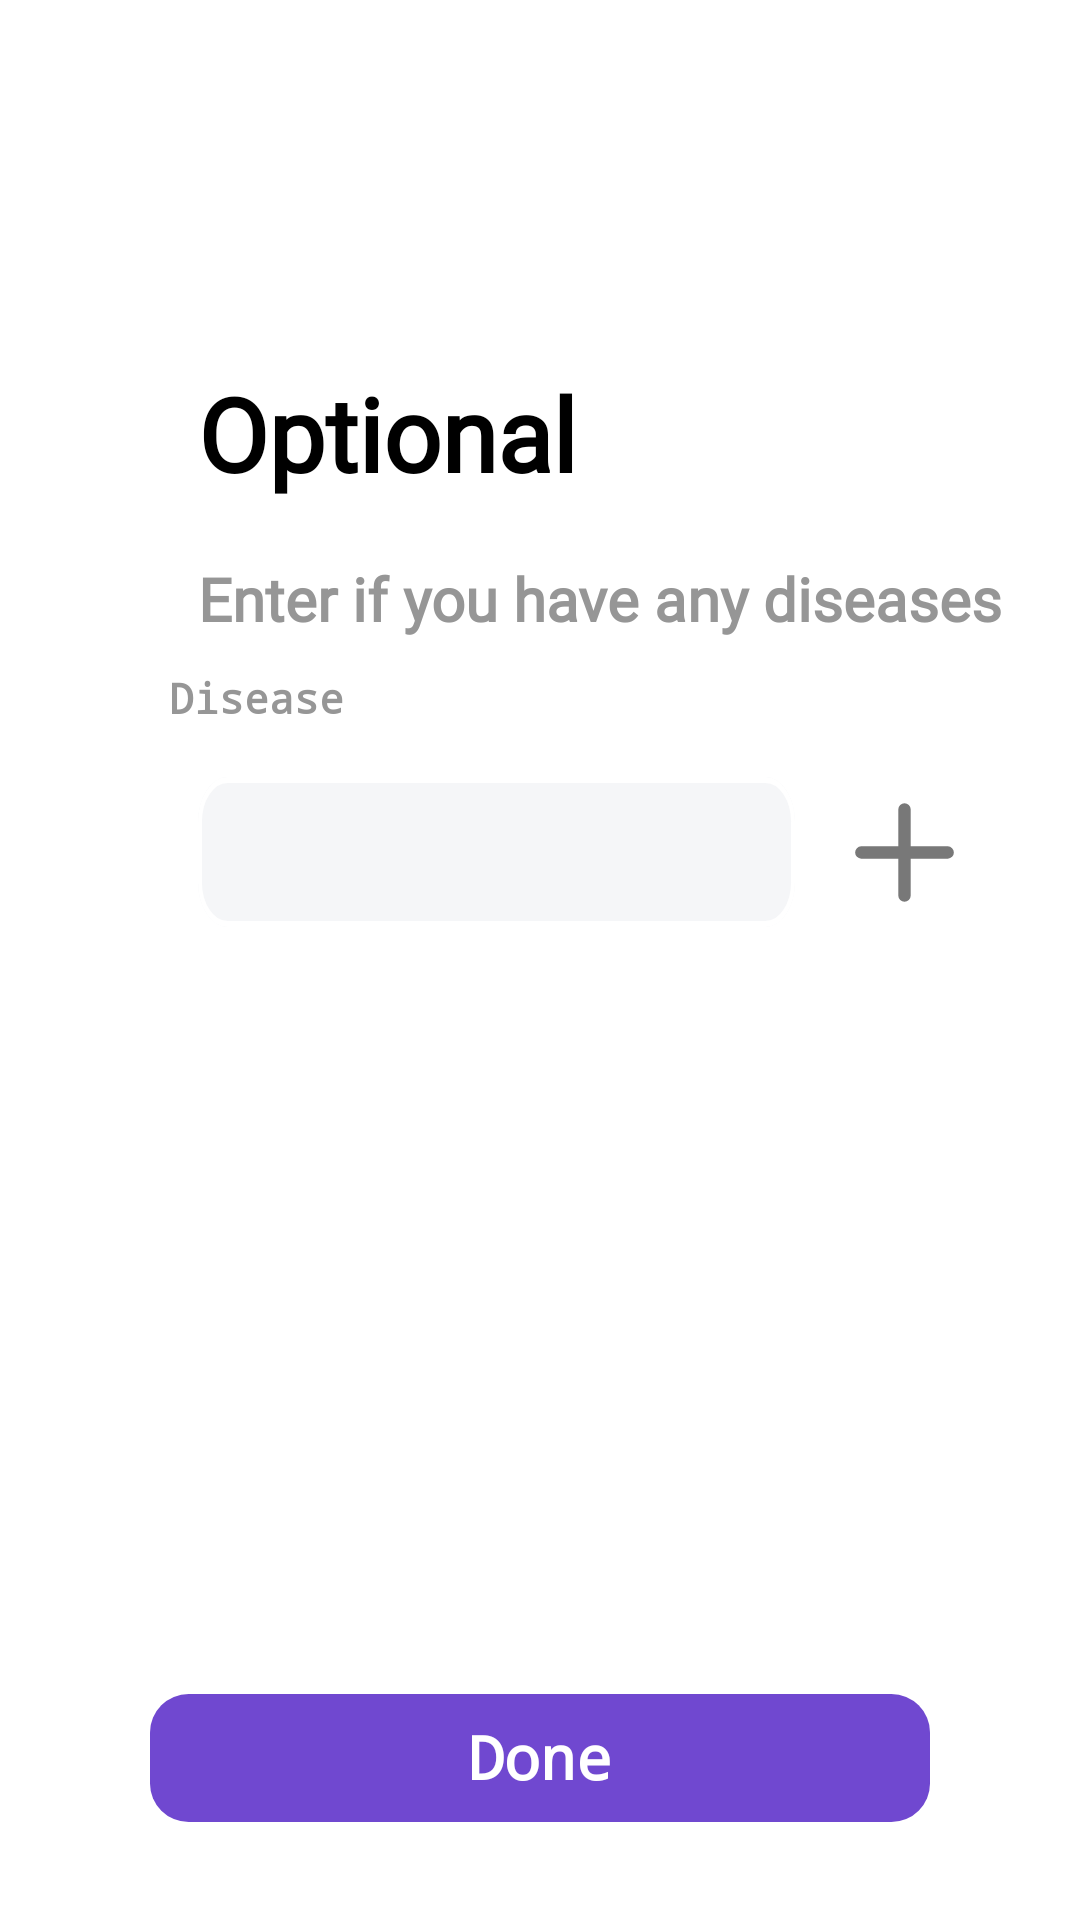

Named icons in this screenshot (1080x1920) and their bounding boxes, box(x1, y1, x2, y2):
plus: box(855, 803, 954, 902)
